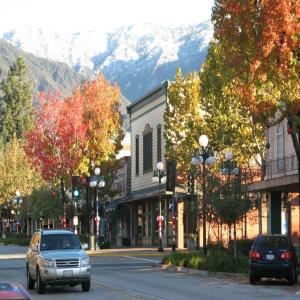Vehicle-registration-plate: (65, 270, 74, 278), (267, 255, 276, 260)
